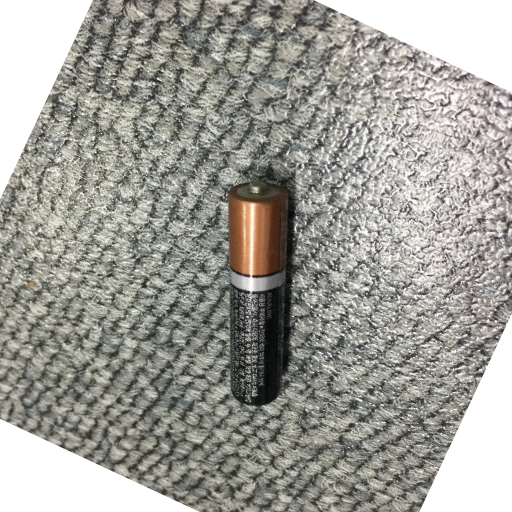Battery_0: (206, 165, 304, 410)
